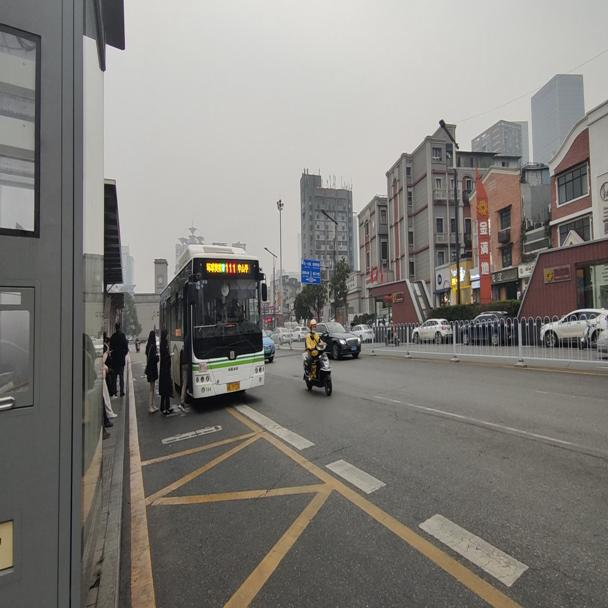bus: (159, 243, 266, 400)
screen: (223, 261, 236, 276)
